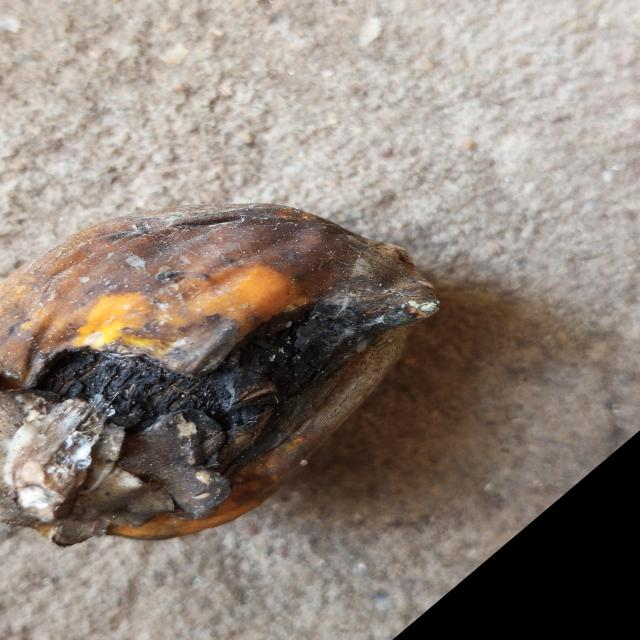damaged: (0, 205, 439, 545)
